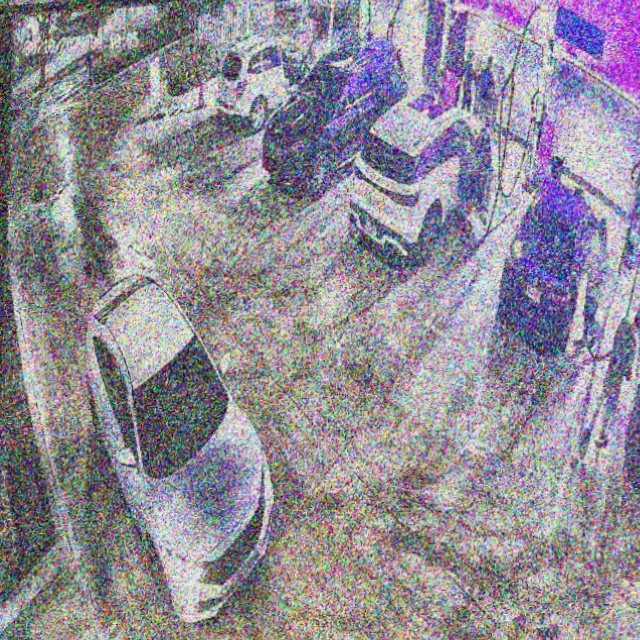Car: (75, 264, 281, 630), (349, 78, 497, 264), (261, 27, 410, 181)
